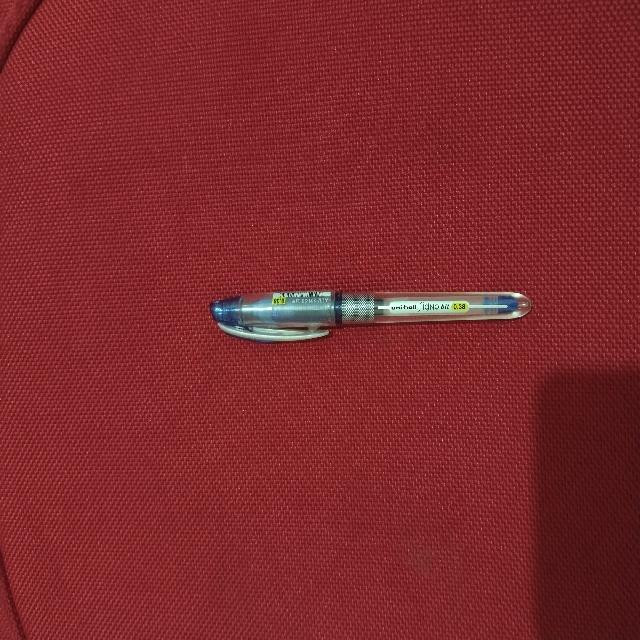pen: (210, 291, 530, 341)
